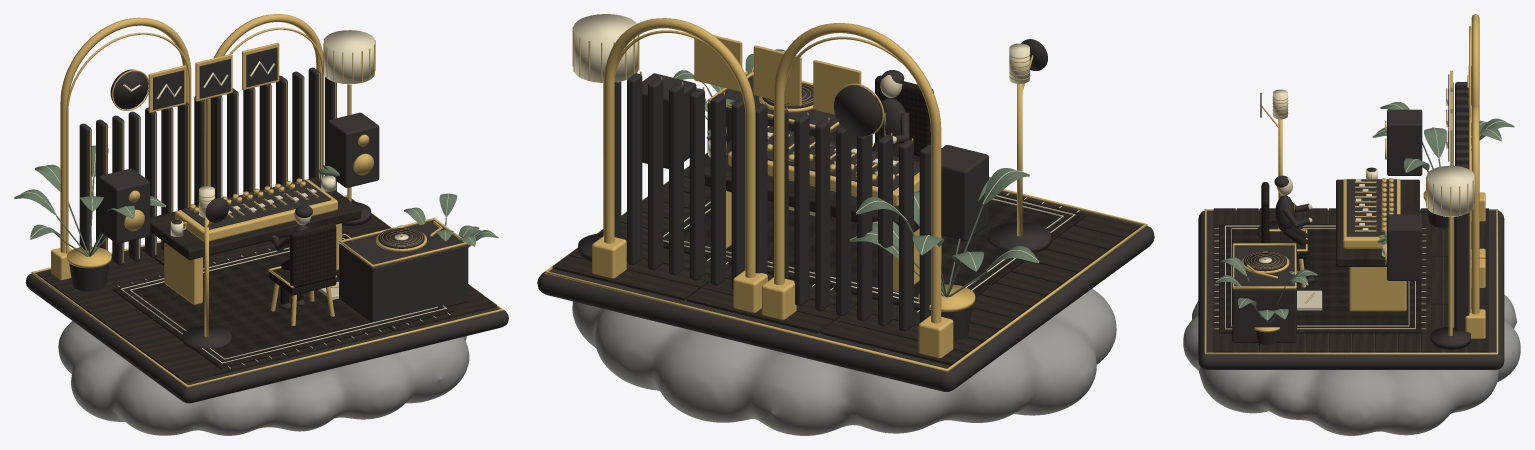
File: about.glb
The picture shows the model from 3 angles, left to right: view 1: azimuth 30°, elevation 25°; view 2: azimuth 150°, elevation 25°; view 3: azimuth 270°, elevation 25°; orthographic projection. The views are drawn at different scales.
Visible parts, largest first — view 1: about_puffy_cloud, about_Obsidian_layer_3, about_Woven charcoal_layer_0, about_Smoked timber_layer_0, about_Obsidian_layer_0, hotspot_record_Obsidian, about_Warm brass_layer_4, hotspot_ksong_Obsidian, about_Obsidian_layer_4, about_Smoked timber_layer_2, hotspot_ksong_Warm brass, about_Warm brass_layer_3 (+15 smaller); view 2: about_Obsidian_layer_3, about_puffy_cloud, about_Warm brass_layer_4, about_Smoked timber_layer_0, about_Obsidian_layer_0, about_Woven charcoal_layer_0, hotspot_ksong_Obsidian, about_Warm brass_layer_1, about_Ivory_layer_4, about_Warm brass_layer_0, about_Muted botanical green_layer_3, about_Muted botanical green_layer_2 (+13 smaller); view 3: about_puffy_cloud, about_Obsidian_layer_0, about_Smoked timber_layer_0, about_Woven charcoal_layer_0, hotspot_ksong_Obsidian, hotspot_record_Obsidian, about_Warm brass_layer_4, about_Obsidian_layer_3, about_Ivory_layer_4, about_Warm brass_layer_2, about_Smoked timber_layer_2, hotspot_ksong_Warm brass (+15 smaller).
Part boxes in pixels (x1,y1,x2,y2): about_puffy_cloud: (58,321,469,435); about_Obsidian_layer_3: (79,67,336,265); about_Woven charcoal_layer_0: (112,231,454,368); about_Smoked timber_layer_0: (38,198,496,382); about_Obsidian_layer_0: (25,197,508,403); hotspot_record_Obsidian: (339,220,468,322); about_Warm brass_layer_4: (60,14,375,253); hotspot_ksong_Obsidian: (98,112,379,243); about_Obsidian_layer_4: (110,47,277,110); about_Smoked timber_layer_2: (150,177,361,260); hotspot_ksong_Warm brass: (124,134,373,241); about_Warm brass_layer_3: (89,73,351,262); about_Obsidian_layer_3: (614,73,930,331); about_puffy_cloud: (572,288,1116,435); about_Warm brass_layer_4: (572,18,941,323); about_Smoked timber_layer_0: (552,153,1139,365); about_Obsidian_layer_0: (537,191,1154,391); about_Woven charcoal_layer_0: (663,193,1085,309); hotspot_ksong_Obsidian: (642,73,988,241); about_Warm brass_layer_1: (592,142,975,357); about_Ivory_layer_4: (573,14,638,82); about_Warm brass_layer_0: (544,152,1147,372); about_Muted botanical green_layer_3: (706,127,1029,271); about_Muted botanical green_layer_2: (673,49,1038,297); about_puffy_cloud: (1183,294,1520,435); about_Obsidian_layer_0: (1198,210,1504,369); about_Smoked timber_layer_0: (1213,208,1488,352); about_Woven charcoal_layer_0: (1219,224,1421,333); hotspot_ksong_Obsidian: (1346,109,1422,280); hotspot_record_Obsidian: (1232,245,1296,342); about_Warm brass_layer_4: (1426,14,1479,314); about_Obsidian_layer_3: (1367,82,1469,330); about_Ivory_layer_4: (1426,75,1474,216); about_Warm brass_layer_2: (1349,174,1406,311); about_Smoked timber_layer_2: (1336,179,1419,266); hotspot_ksong_Warm brass: (1343,121,1400,264).
Size of the model in its own units: 4.71 by 3.91 by 3.81.
Materials: 10 (2 with a texture image).
